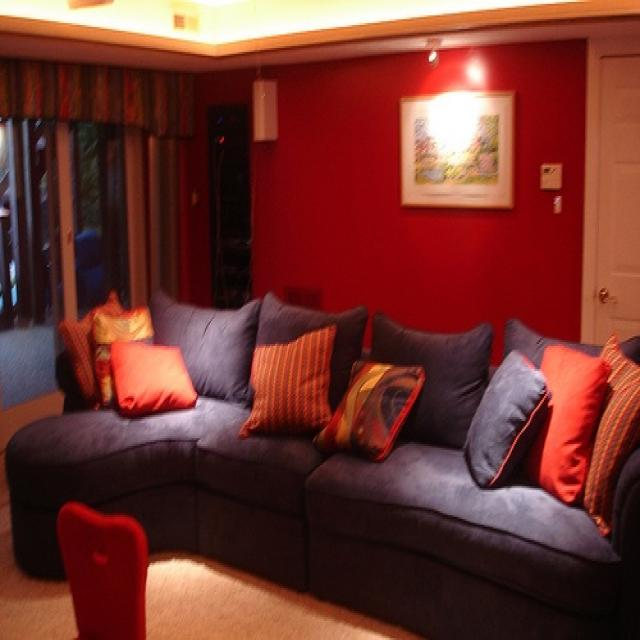sofa: (5, 292, 639, 638)
